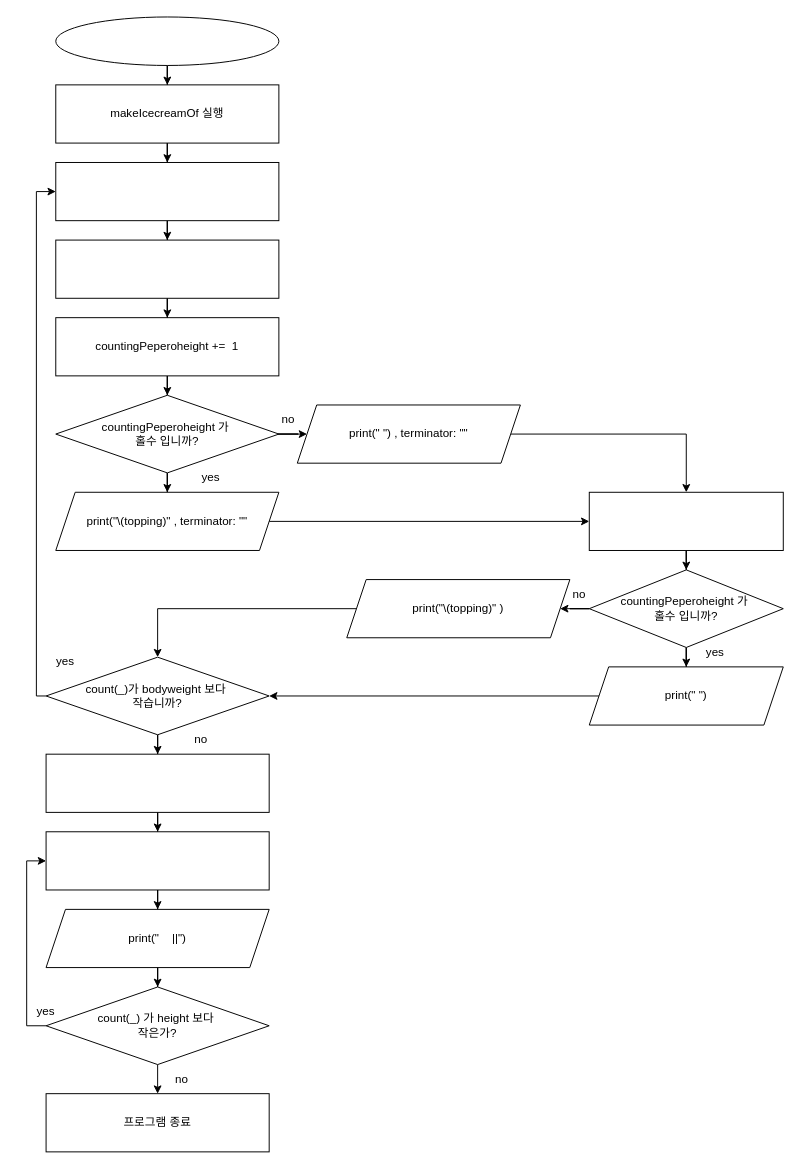
Some shapes in this 800 by 1169 pixel diagram are drawn without their labels. The centre of each missing label's shape, as x and y in pixels:
count(_) 값에 1 추가: (x=157, y=860)
count(_) 값에 1추가: (x=167, y=191)
countingPeperoheight = 0: (x=167, y=40)
makePeperoBodyOf 실행: (x=167, y=268)
makePeperoStickOf 실행: (x=157, y=782)
print("\(type)") , terminator: "": (x=685, y=520)
